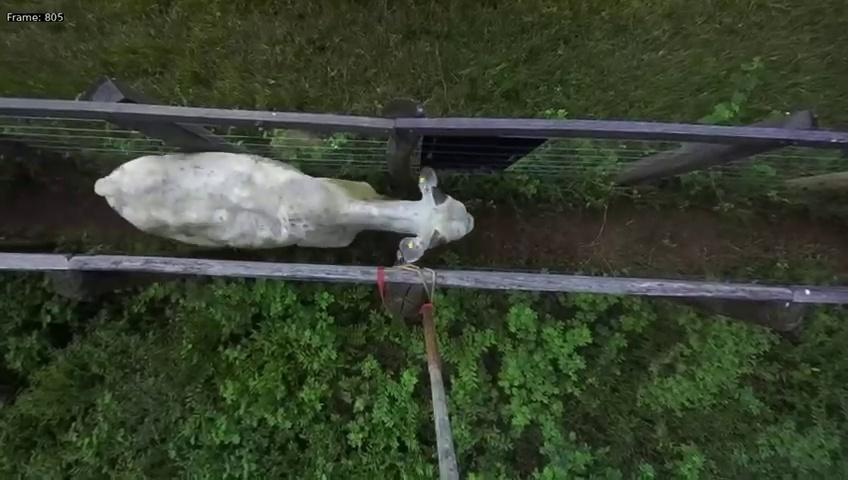cattle: (94, 130, 476, 265)
